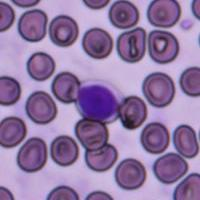L: (74, 78, 123, 123)
